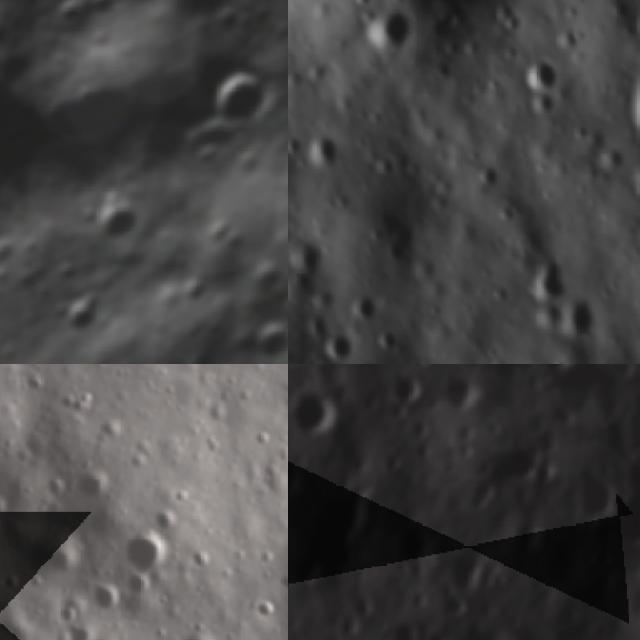crater: (201, 59, 272, 132), (171, 106, 239, 171), (54, 272, 116, 342), (357, 4, 422, 64), (292, 387, 342, 438), (242, 309, 288, 364), (526, 254, 573, 307), (554, 295, 602, 346), (120, 536, 170, 580), (97, 197, 141, 246), (517, 54, 565, 98), (576, 467, 616, 518), (444, 615, 524, 640), (313, 321, 357, 364), (588, 135, 631, 178), (345, 284, 385, 328), (301, 128, 340, 170), (491, 0, 529, 42), (448, 376, 488, 414), (76, 469, 116, 505), (392, 374, 434, 408), (291, 551, 324, 591), (90, 582, 126, 616), (44, 0, 87, 25), (624, 440, 640, 507), (372, 320, 402, 354), (152, 507, 183, 538), (248, 596, 279, 623), (624, 152, 640, 203), (536, 364, 583, 381), (126, 571, 150, 602), (0, 229, 19, 264), (58, 600, 81, 628), (192, 548, 215, 574), (288, 466, 304, 501), (65, 628, 96, 640), (86, 0, 114, 10), (184, 632, 219, 640)
